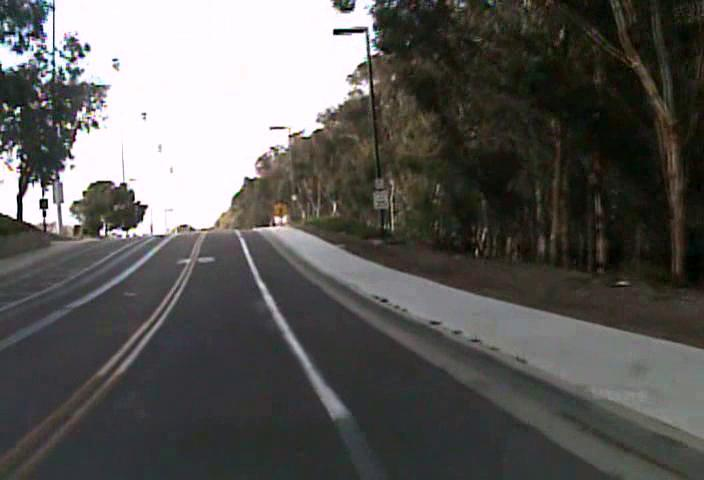speedLimitUrdbl: (372, 189, 390, 210)
